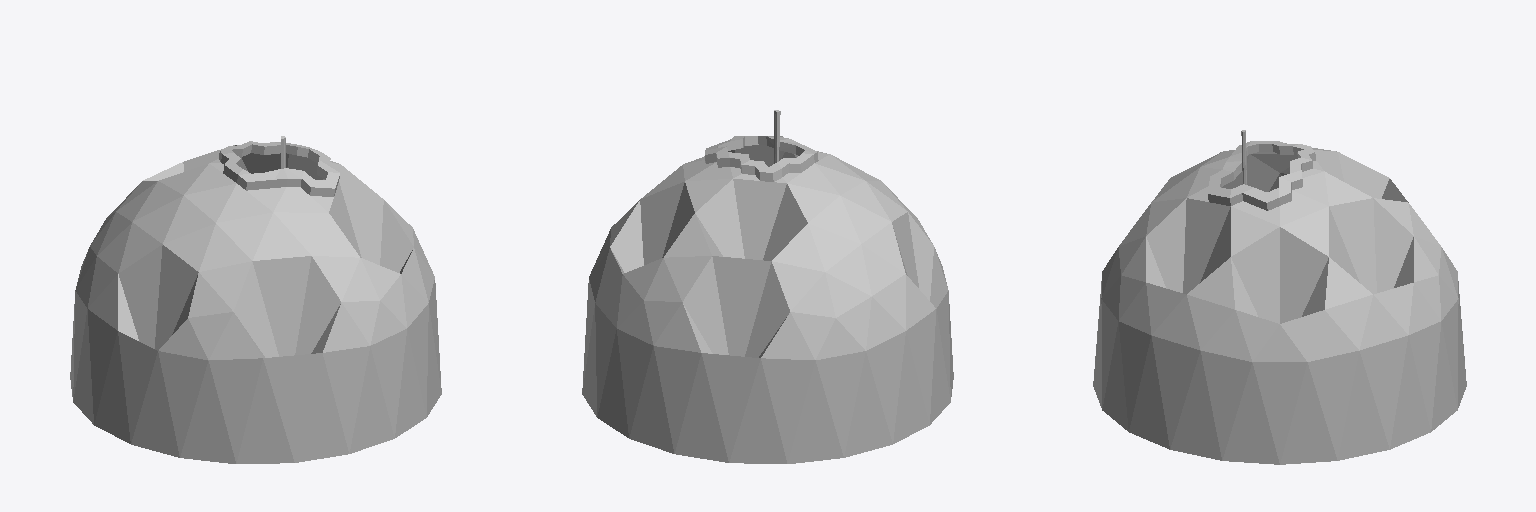
File: ceiling.obj
3 renders of one model, left to right at view 1: azimuth 30°, elevation 25°; view 2: azimuth 150°, elevation 25°; view 3: azimuth 270°, elevation 25°, orthographic.
Parts seen in each view (by area): view 1: Icosphere; view 2: Icosphere; view 3: Icosphere.
Boxes of the visible parts, box(x1,y1,x2,y2) form: Icosphere: box(70, 136, 441, 463); Icosphere: box(582, 110, 953, 463); Icosphere: box(1093, 130, 1466, 464).
Bounding box in the file's own units: 10 × 7.67 × 10.